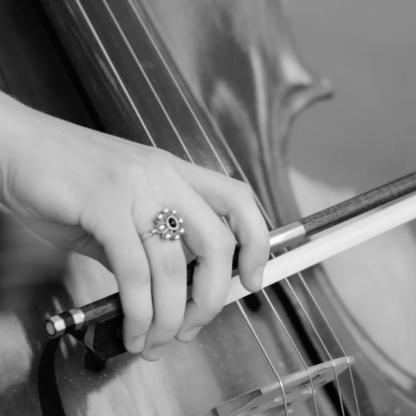goood: (71, 118, 294, 360)
